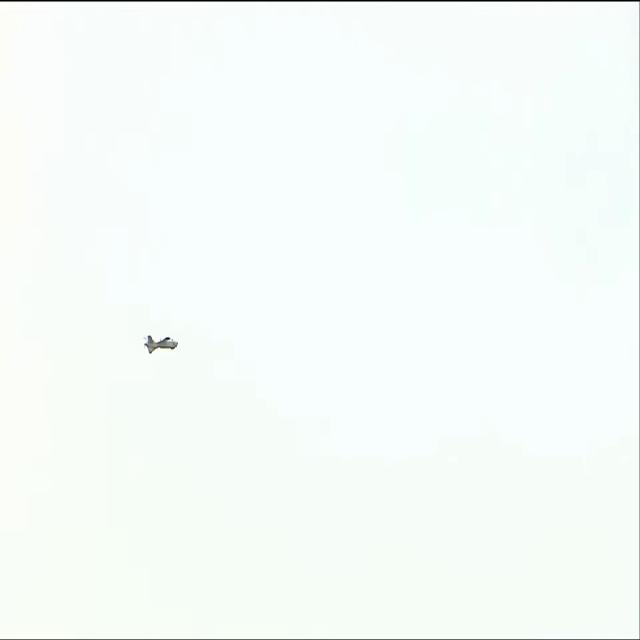iha: (143, 332, 180, 357)
